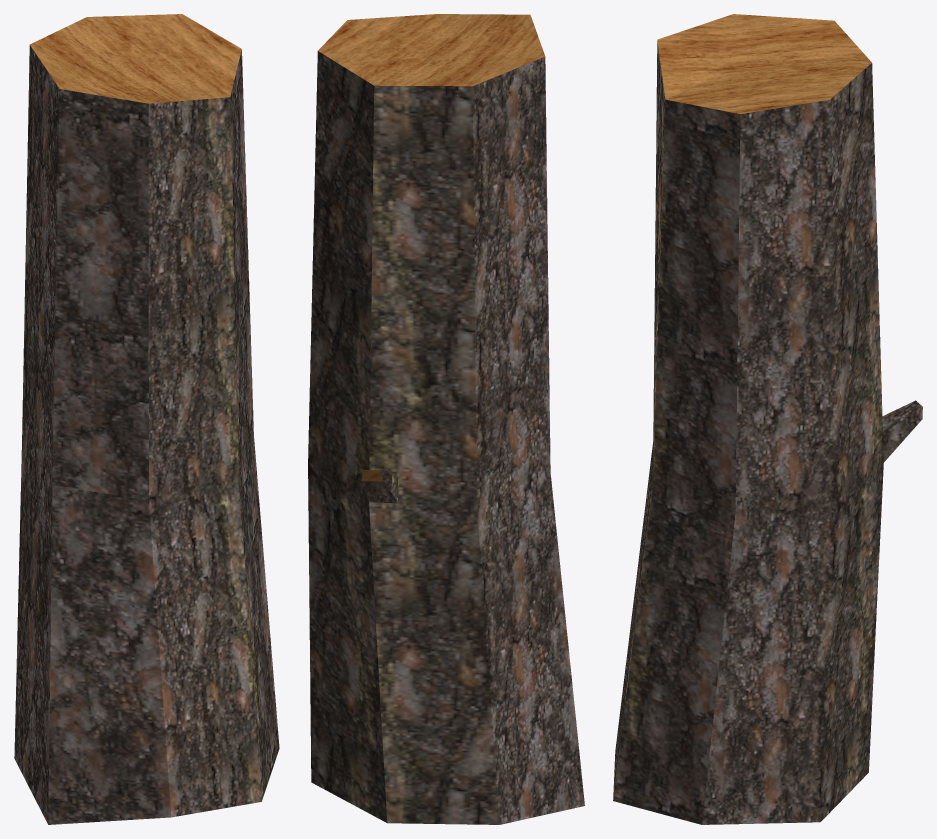
Rendered from log_item_model.obj.
The picture shows the model from 3 angles, left to right: view 1: azimuth 30°, elevation 25°; view 2: azimuth 150°, elevation 25°; view 3: azimuth 270°, elevation 25°; orthographic projection. The views are drawn at different scales.
Parts seen in each view (by area): view 1: Cylinder.003; view 2: Cylinder.003; view 3: Cylinder.003.
Boxes of the visible parts, <box> form: Cylinder.003: <box>14,14,279,824</box>; Cylinder.003: <box>308,14,584,824</box>; Cylinder.003: <box>613,14,922,824</box>.
Bounding box in the file's own units: 0.3128 × 0.944 × 0.3604.
